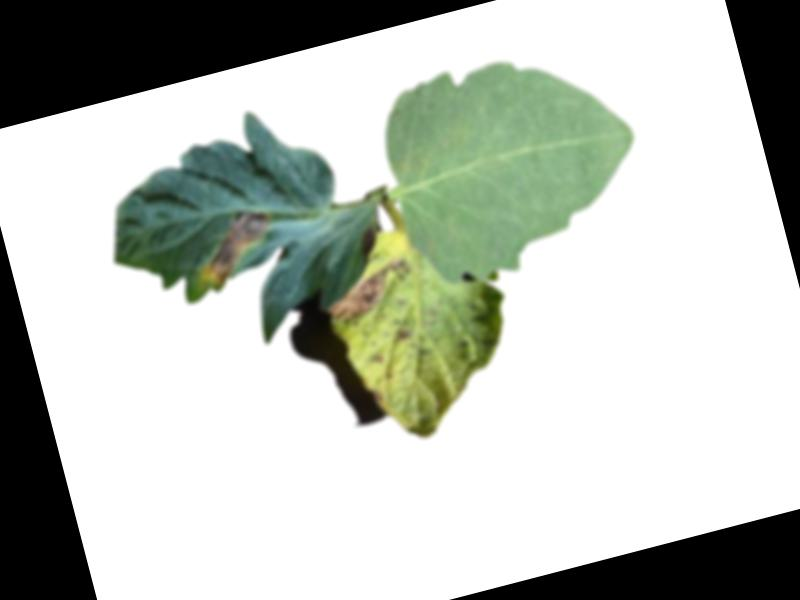Early_blight: (187, 204, 285, 291), (318, 257, 424, 330), (388, 322, 415, 345), (370, 350, 387, 369), (371, 387, 386, 405)
